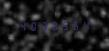five: (57, 19, 66, 30), (67, 19, 76, 30)
four: (17, 20, 26, 31), (77, 19, 86, 30)
three: (37, 20, 46, 31)
zero: (27, 20, 36, 31), (47, 20, 56, 30)
